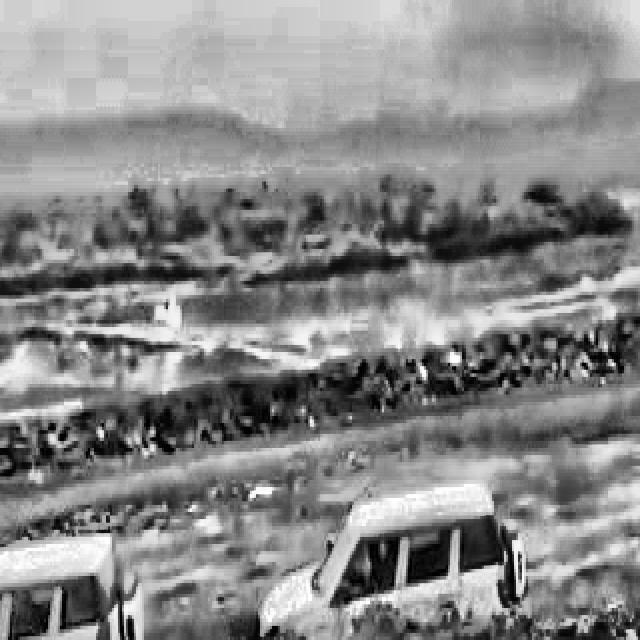light_vehicle: (260, 479, 526, 627), (0, 522, 128, 640)
